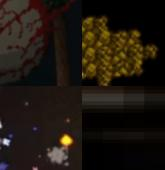eyeC: (0, 0, 82, 86)
zombie: (82, 86, 165, 155)
